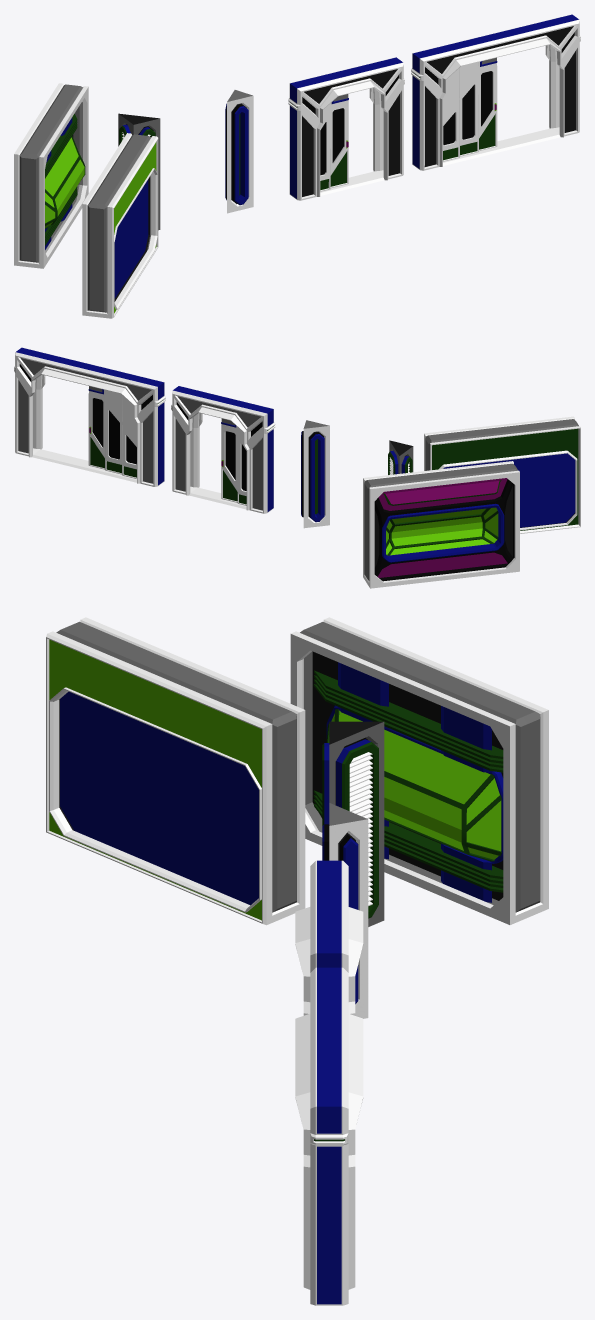
Rendered from ColonyFactory_Walls00.fbx.
3 views of the same model, one above another, from view 1: azimuth 30°, elevation 25°; view 2: azimuth 150°, elevation 25°; view 3: azimuth 270°, elevation 25° (orthographic). The views are drawn at different scales.
Parts seen in each view (by area): view 1: Box039, Box015, Box012, Box038, Box014, DoorBase001, DoorBase0b, DoorBase0b001, DoorBase002, Box013, DoorBase0; view 2: Box012, Box015, Box039, Box038, Box014, DoorBase001, DoorBase0b, DoorBase0b001, DoorBase002, Box013, DoorBase0; view 3: Box015, Box012, Box039, Box013, Box038, Box014.
Boxes of the visible parts, x1,y1,x2,y2 form: Box039: (411,14,580,170); Box015: (82,133,158,318); Box012: (14,83,88,268); Box038: (288,57,404,200); Box014: (225,90,253,213); DoorBase001: (460,62,478,156); DoorBase0b: (330,94,348,188); DoorBase0b001: (479,57,497,151); DoorBase002: (443,67,459,161); Box013: (118,113,160,230); DoorBase0: (320,103,330,191); Box012: (363,461,519,588); Box015: (424,416,580,533); Box039: (14,347,165,486); Box038: (171,385,275,513); Box014: (301,420,329,528); DoorBase001: (105,390,121,474); DoorBase0b: (221,418,237,502); DoorBase0b001: (88,386,104,469); DoorBase002: (122,395,136,478); Box013: (388,440,413,474); DoorBase0: (237,427,246,505); Box015: (46,617,305,925); Box012: (290,617,548,924); Box039: (295,967,363,1305); Box013: (322,721,384,926); Box038: (295,860,363,1015); Box014: (322,803,368,1018).
Size of the model in its own units: 212 by 40.24 by 91.62.
